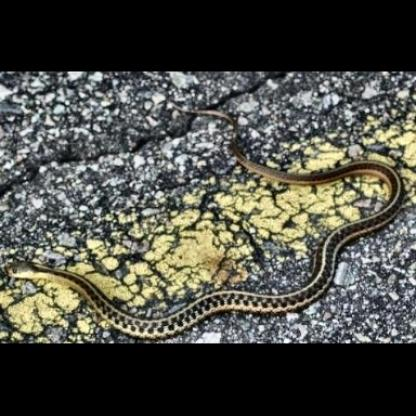Snake: (6, 130, 404, 338)
